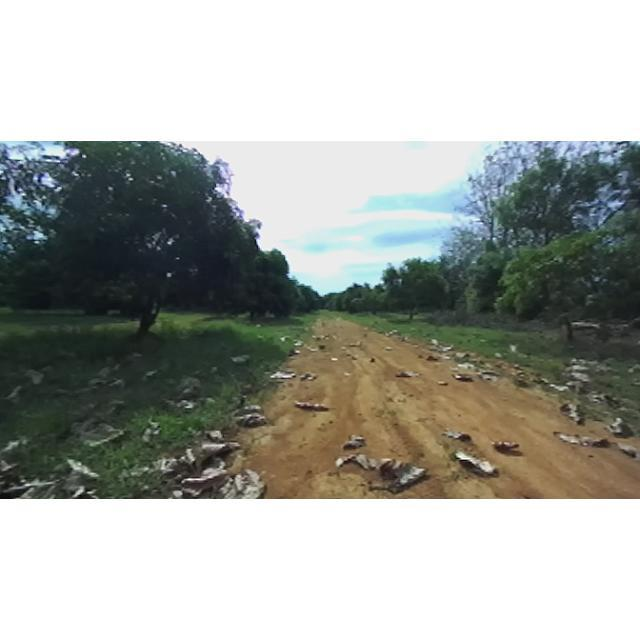tree: (0, 143, 260, 330), (448, 144, 634, 316), (464, 206, 640, 340), (196, 236, 296, 324), (373, 254, 452, 324), (344, 282, 392, 316)
